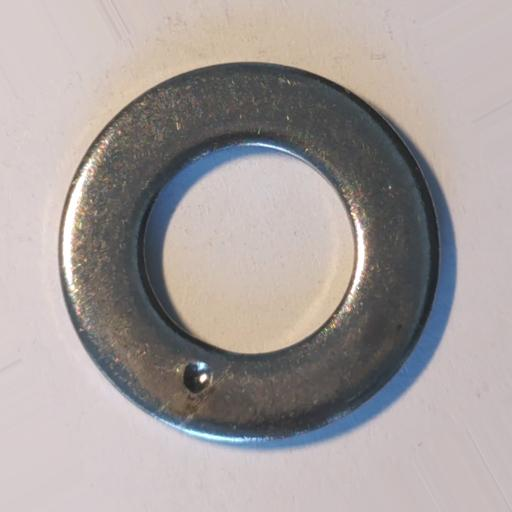circular_cavity: (182, 361, 213, 392)
